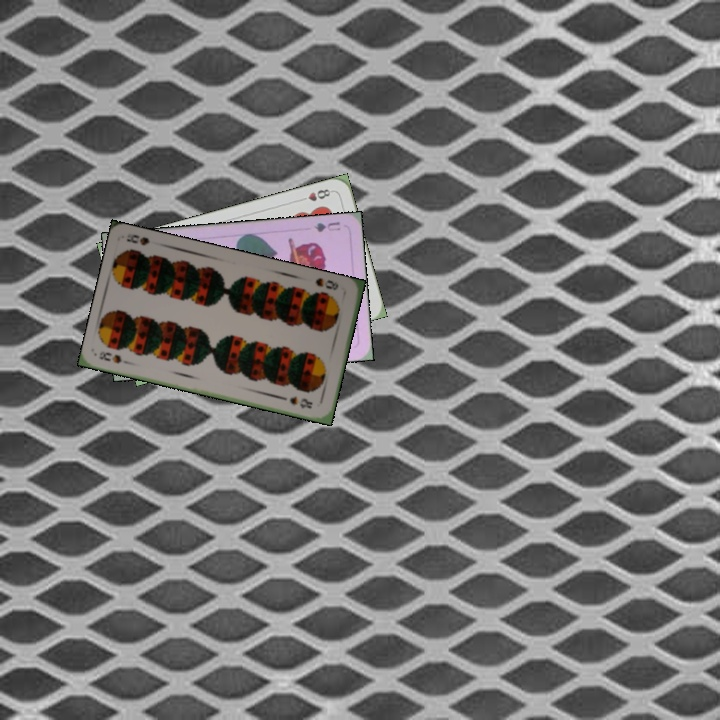GU: (310, 217, 343, 235)
H8: (296, 185, 335, 204)
S8: (95, 347, 135, 368), (311, 274, 341, 292)
